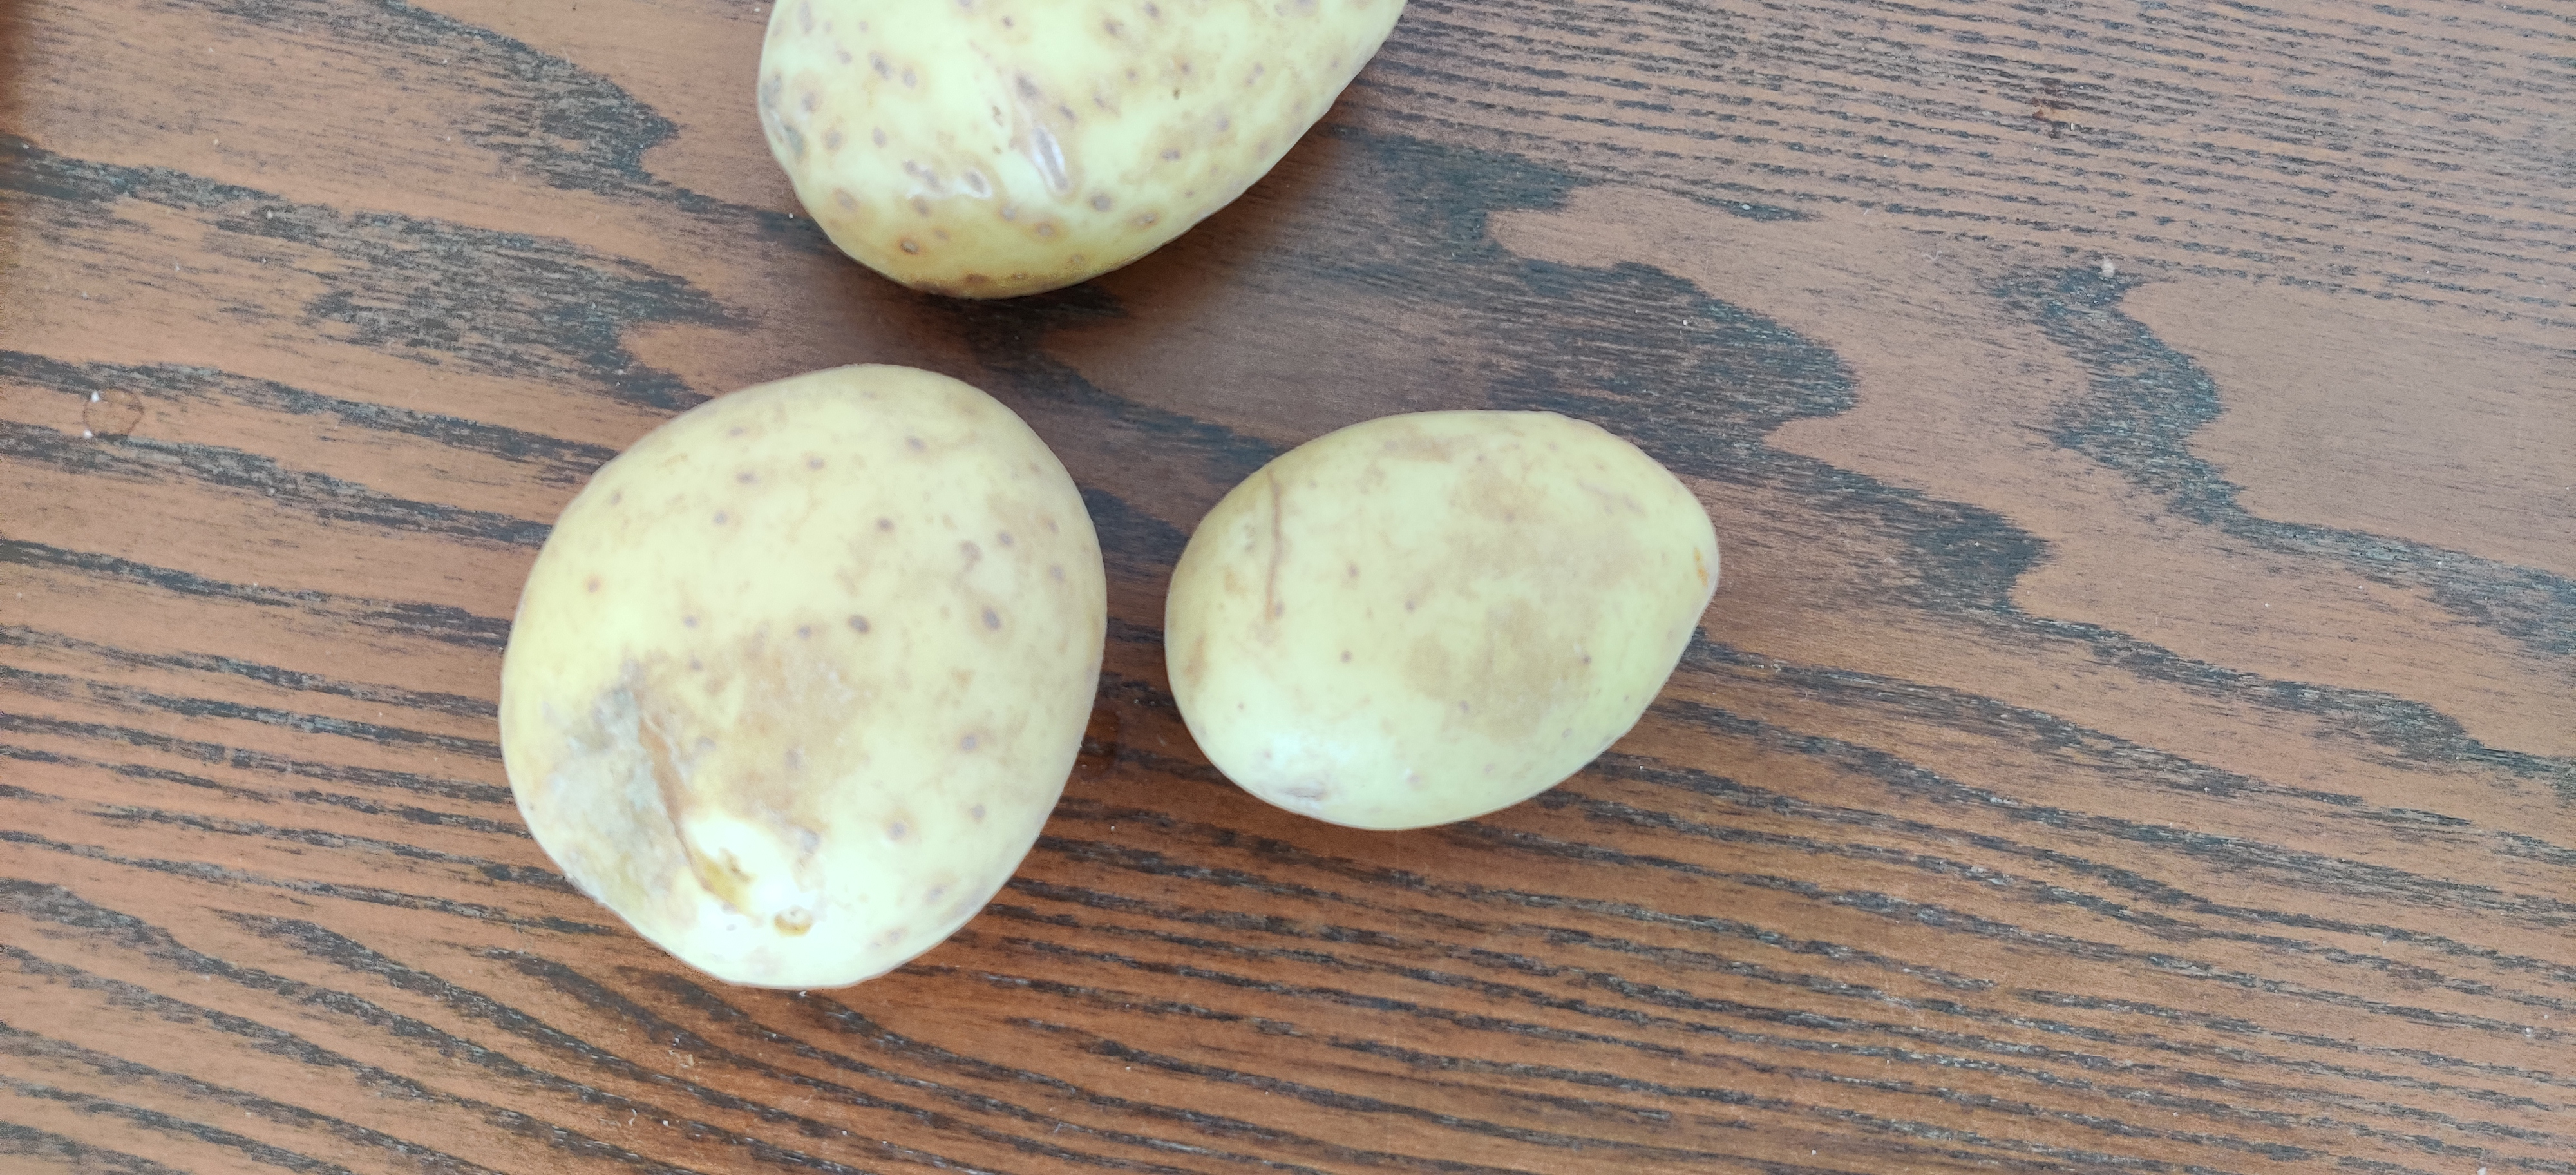Kartoffel: (499, 365, 1104, 988), (1163, 409, 1720, 832), (756, 3, 1411, 297)
